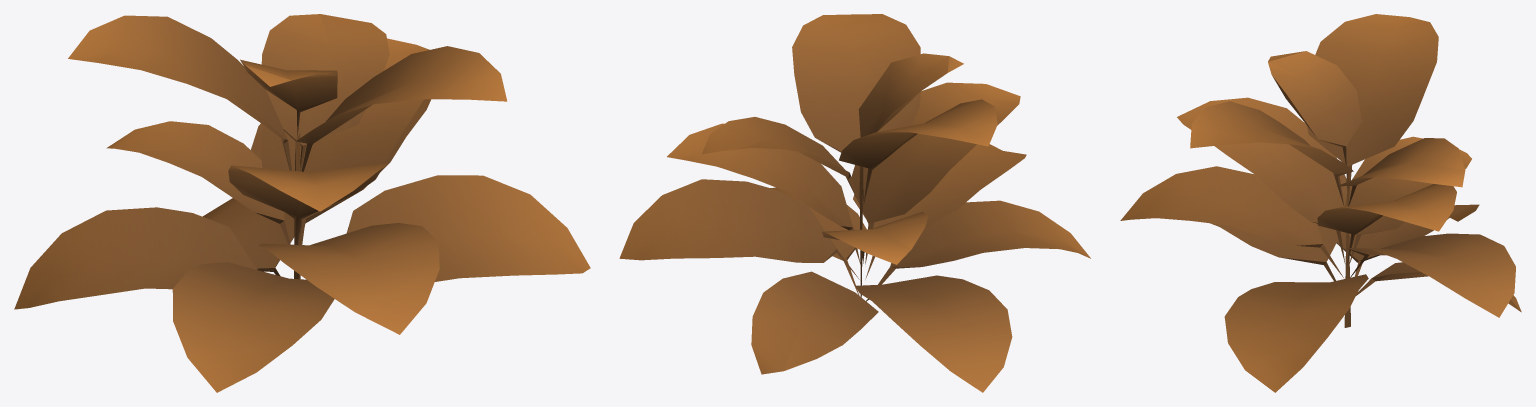
Rendered from Autumn_Plant_02.glb.
The picture shows the model from 3 angles, left to right: view 1: azimuth 30°, elevation 25°; view 2: azimuth 150°, elevation 25°; view 3: azimuth 270°, elevation 25°; orthographic projection. The views are drawn at different scales.
Parts seen in each view (by area): view 1: Autumn_Plant_02_LOD0; view 2: Autumn_Plant_02_LOD0; view 3: Autumn_Plant_02_LOD0.
Part boxes in pixels (x1,y1,x2,y2): Autumn_Plant_02_LOD0: (14, 14, 590, 392); Autumn_Plant_02_LOD0: (619, 14, 1090, 392); Autumn_Plant_02_LOD0: (1120, 14, 1521, 392).
Size of what is drawn, in the model's own units: 0.8784 by 0.5518 by 0.8161.
1 material, 1 textured.
